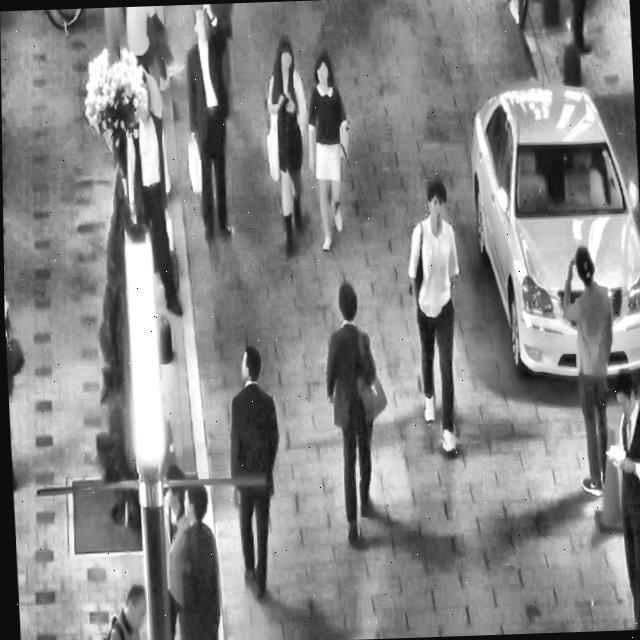light_vehicle: (460, 63, 640, 392)
